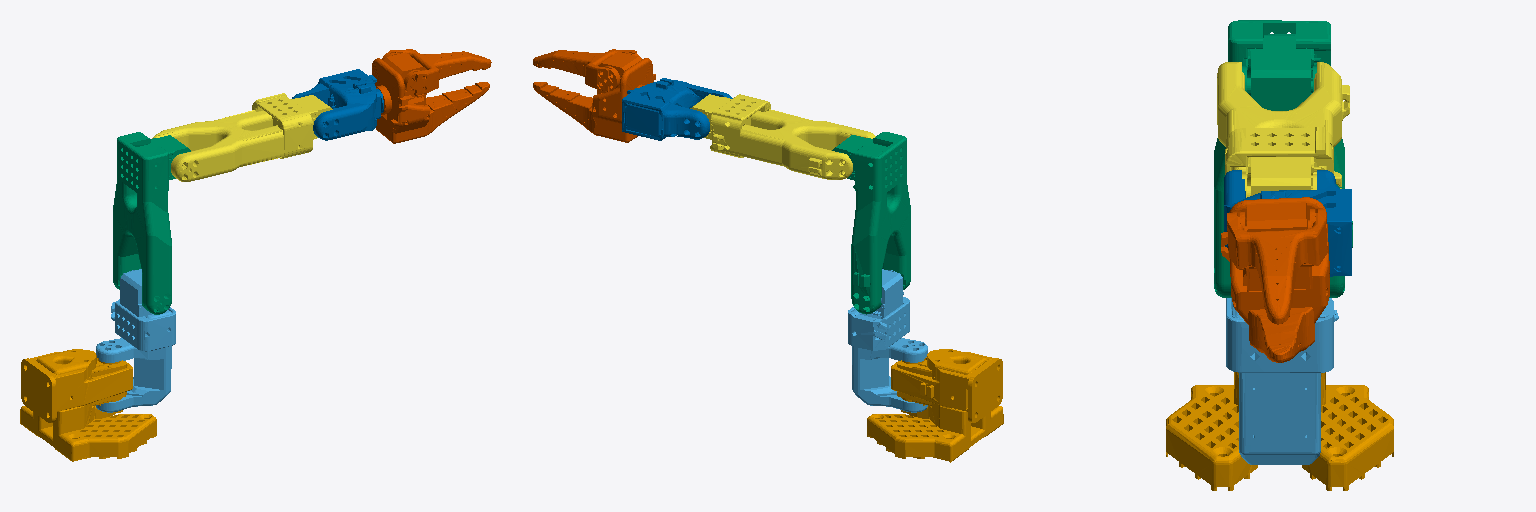
The robot description file, URDF, robot "so101":
<?xml version='1.0' encoding='utf-8'?>
<robot name="so101">
  <!--
Derived from https://github.com/TheRobotStudio/SO-ARM100 (Simulation/SO101/so101_new_calib.urdf) at commit 141aea7bcac2744d92998e30268c413202a56f96, Apache-2.0.
Five-joint SO-ARM101: snapped joint origins, gripper jaw folded into gripper_link,
meshes merged per link (tools/meshes/so101). Effort / velocity limits are upstream's CAD placeholders.
Generated by tools/import_so101_description.py; do not edit by hand.
-->
  <link name="base_link">
    <inertial>
      <origin xyz="0.0137179 -5.19711e-05 0.0334843" rpy="0 0 0" />
      <mass value="0.147" />
      <inertia ixx="0.000114686" ixy="-4.59787e-07" ixz="4.97151e-06" iyy="0.000136117" iyz="9.75275e-08" izz="0.000130364" />
    </inertial>
    <visual>
      <origin xyz="0 0 0" rpy="0 0 0" />
      <geometry>
        <mesh filename="tools/meshes/so101/base_link.stl" />
      </geometry>
    </visual>
  </link>
  <link name="shoulder_link">
    <inertial>
      <origin xyz="-0.0307604 -1.66727e-05 -0.0252713" rpy="0 0 0" />
      <mass value="0.100006" />
      <inertia ixx="8.3759e-05" ixy="7.55525e-08" ixz="-1.16342e-06" iyy="8.10403e-05" iyz="1.54663e-07" izz="2.39783e-05" />
    </inertial>
    <visual>
      <origin xyz="0 0 0" rpy="0 0 0" />
      <geometry>
        <mesh filename="tools/meshes/so101/shoulder_link.stl" />
      </geometry>
    </visual>
  </link>
  <link name="upper_arm_link">
    <inertial>
      <origin xyz="-0.0898471 -0.00838224 0.0184089" rpy="0 0 0" />
      <mass value="0.103" />
      <inertia ixx="4.08002e-05" ixy="-1.97819e-05" ixz="-4.03016e-08" iyy="0.000147318" iyz="8.97326e-09" izz="0.000142487" />
    </inertial>
    <visual>
      <origin xyz="0 0 0" rpy="0 0 0" />
      <geometry>
        <mesh filename="tools/meshes/so101/upper_arm_link.stl" />
      </geometry>
    </visual>
  </link>
  <link name="lower_arm_link">
    <inertial>
      <origin xyz="-0.0980701 0.00324376 0.0182831" rpy="0 0 0" />
      <mass value="0.104" />
      <inertia ixx="2.87438e-05" ixy="7.41152e-06" ixz="1.26409e-06" iyy="0.000159844" iyz="-4.90188e-08" izz="0.00014529" />
    </inertial>
    <visual>
      <origin xyz="0 0 0" rpy="0 0 0" />
      <geometry>
        <mesh filename="tools/meshes/so101/lower_arm_link.stl" />
      </geometry>
    </visual>
  </link>
  <link name="wrist_link">
    <inertial>
      <origin xyz="-0.000103312 -0.0386143 0.0281156" rpy="0 0 0" />
      <mass value="0.079" />
      <inertia ixx="3.68263e-05" ixy="1.7893e-08" ixz="-5.28128e-08" iyy="2.5391e-05" iyz="3.6412e-06" izz="2.1e-05" />
    </inertial>
    <visual>
      <origin xyz="0 0 0" rpy="0 0 0" />
      <geometry>
        <mesh filename="tools/meshes/so101/wrist_link.stl" />
      </geometry>
    </visual>
  </link>
  <link name="gripper_link">
    <inertial>
      <origin xyz="0.0024453146363636368 0.0001577879393939385 -0.028609715151515155" rpy="0 0 0" />
      <mass value="0.09899999999999999" />
      <inertia ixx="4.25368726395361e-05" ixy="-1.8941704440423648e-07" ixz="-5.72523087714255e-07" iyy="6.063620960498288e-05" iyz="-1.5642855831811195e-07" izz="3.997639987794444e-05" />
    </inertial>
    <visual>
      <origin xyz="0 0 0" rpy="0 0 0" />
      <geometry>
        <mesh filename="tools/meshes/so101/gripper_link.stl" />
      </geometry>
    </visual>
  </link>
  <link name="gripper_frame_link">
    </link>
  <joint name="gripper_frame_joint" type="fixed">
    <origin xyz="-0.0079 -0.000218121 -0.0981274" rpy="0.0 3.141592653589793 0.0" />
    <parent link="gripper_link" />
    <child link="gripper_frame_link" />
    <axis xyz="0 0 0" />
  </joint>
  <joint name="wrist_roll" type="revolute">
    <origin xyz="0.0 -0.0611 0.0181" rpy="1.5707963267948966 0.0486795 3.141592653589793" />
    <parent link="wrist_link" />
    <child link="gripper_link" />
    <axis xyz="0 0 1" />
    <limit effort="10" velocity="10" lower="-2.74385" upper="2.84121" />
  </joint>
  <joint name="wrist_flex" type="revolute">
    <origin xyz="-0.1349 0.0052 0.0" rpy="0.0 0.0 -1.5707963267948966" />
    <parent link="lower_arm_link" />
    <child link="wrist_link" />
    <axis xyz="0 0 1" />
    <limit effort="10" velocity="10" lower="-1.65806" upper="1.65806" />
  </joint>
  <joint name="elbow_flex" type="revolute">
    <origin xyz="-0.11257 -0.028 0.0" rpy="-0.0 0.0 1.5707963267948966" />
    <parent link="upper_arm_link" />
    <child link="lower_arm_link" />
    <axis xyz="0 0 1" />
    <limit effort="10" velocity="10" lower="-1.69" upper="1.69" />
  </joint>
  <joint name="shoulder_lift" type="revolute">
    <origin xyz="-0.0303992 -0.0182778 -0.0542" rpy="-1.5707963267948966 -1.5707963267948966 0.0" />
    <parent link="shoulder_link" />
    <child link="upper_arm_link" />
    <axis xyz="0 0 1" />
    <limit effort="10" velocity="10" lower="-1.74533" upper="1.74533" />
  </joint>
  <joint name="shoulder_pan" type="revolute">
    <origin xyz="0.0388353 0.0 0.0624" rpy="3.141592653589793 0.0 -3.141592653589793" />
    <parent link="base_link" />
    <child link="shoulder_link" />
    <axis xyz="0 0 1" />
    <limit effort="10" velocity="10" lower="-1.91986" upper="1.91986" />
  </joint>
</robot>

--- Render facts (derived) ---
The picture shows the robot from 3 angles, left to right: view 1: azimuth 30°, elevation 25°; view 2: azimuth 150°, elevation 25°; view 3: azimuth 270°, elevation 25°; orthographic projection.
Model so101 with 7 links and 6 joints (5 revolute, 1 fixed), rooted at base_link, posed all joints at 0.
Links seen in each view (by area): view 1: base_link, upper_arm_link, lower_arm_link, gripper_link, shoulder_link, wrist_link; view 2: base_link, upper_arm_link, lower_arm_link, shoulder_link, gripper_link, wrist_link; view 3: gripper_link, base_link, lower_arm_link, shoulder_link, upper_arm_link, wrist_link.
Link boxes in pixels (box(x1,y1,x2,y2)): base_link: box(20, 349, 156, 461); upper_arm_link: box(113, 132, 190, 314); lower_arm_link: box(152, 93, 332, 181); gripper_link: box(372, 49, 491, 143); shoulder_link: box(96, 269, 175, 412); wrist_link: box(292, 69, 383, 140); base_link: box(867, 349, 1003, 462); upper_arm_link: box(832, 132, 910, 314); lower_arm_link: box(690, 94, 875, 179); shoulder_link: box(848, 269, 927, 412); gripper_link: box(533, 49, 655, 142); wrist_link: box(622, 78, 732, 140); gripper_link: box(1221, 197, 1329, 362); base_link: box(1166, 372, 1393, 490); lower_arm_link: box(1217, 62, 1349, 197); shoulder_link: box(1226, 298, 1338, 464); upper_arm_link: box(1214, 20, 1352, 297); wrist_link: box(1224, 170, 1351, 276).
Size in the robot's own frame: 0.4296 by 0.1109 by 0.2681 metres.
Meshes: 6 distinct files referenced, 6 mesh visuals loaded (6 binary STL).
